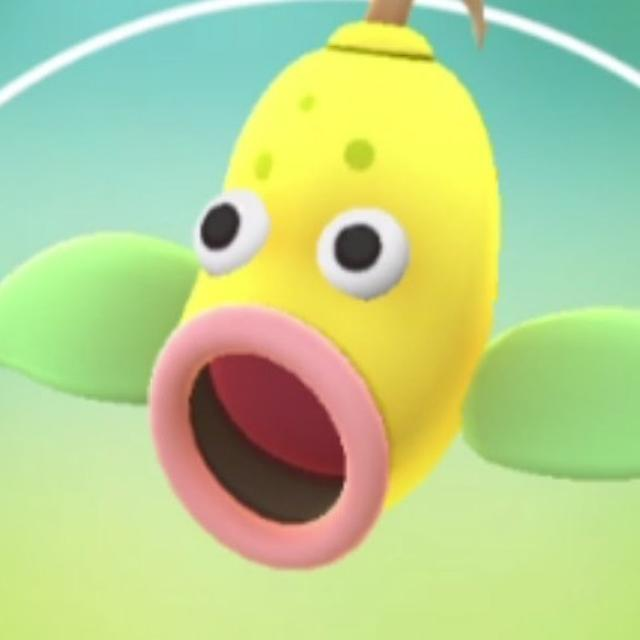Weepinbell: (157, 16, 503, 571)
